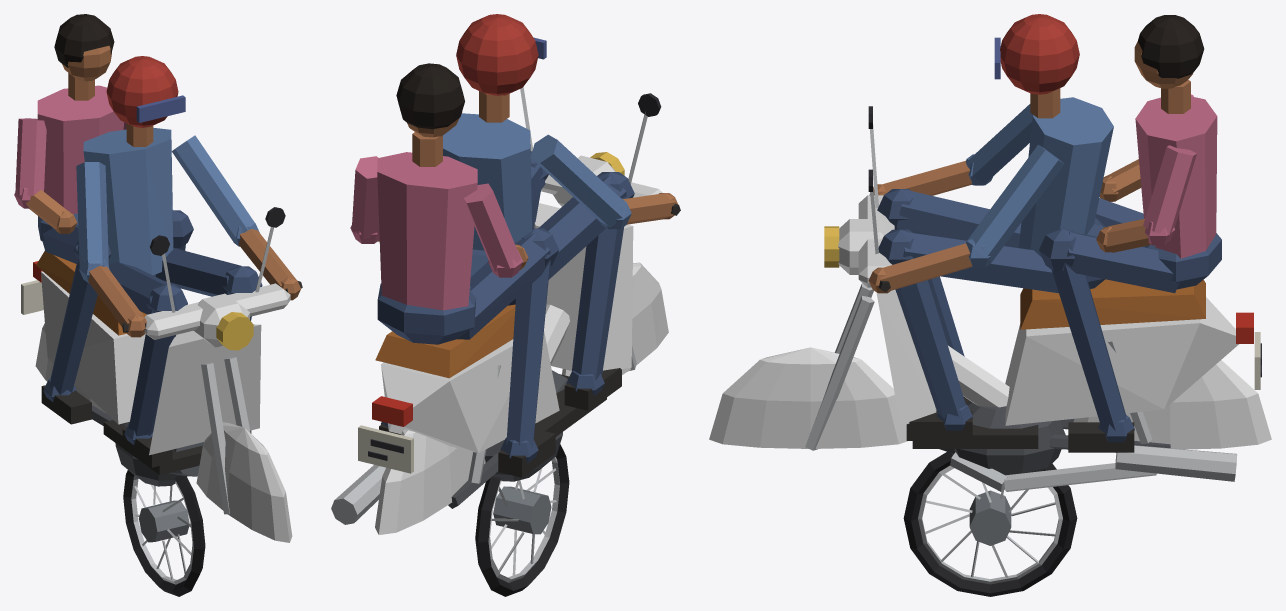
Rendered from motorcycle_helmet.glb.
The picture shows the model from 3 angles, left to right: view 1: azimuth 30°, elevation 25°; view 2: azimuth 150°, elevation 25°; view 3: azimuth 270°, elevation 25°; orthographic projection. The views are drawn at different scales.
Parts seen in each view (by area): view 1: body, paint, wheel0, lights; view 2: body, paint, wheel0, lights; view 3: body, paint, wheel0, lights.
Part boxes in pixels (bbox=[...]): body: bbox=[14, 14, 302, 514]; paint: bbox=[35, 271, 292, 542]; wheel0: bbox=[123, 470, 205, 596]; lights: bbox=[33, 261, 253, 350]; body: bbox=[331, 14, 680, 524]; paint: bbox=[375, 155, 668, 534]; wheel0: bbox=[475, 444, 569, 596]; lights: bbox=[372, 152, 624, 426]; body: bbox=[805, 14, 1261, 491]; paint: bbox=[709, 195, 1271, 449]; wheel0: bbox=[903, 452, 1077, 596]; lights: bbox=[824, 226, 1253, 343].
Size of the model in its own units: 0.7735 by 2.13 by 1.88.
